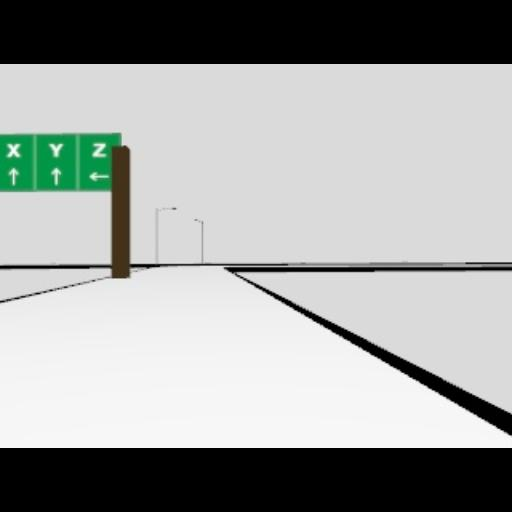Left: (88, 171, 108, 181)
Straight: (50, 166, 60, 184), (8, 166, 18, 184)
X: (7, 143, 21, 157)
Y: (48, 143, 62, 157)
Z: (91, 143, 107, 157)
